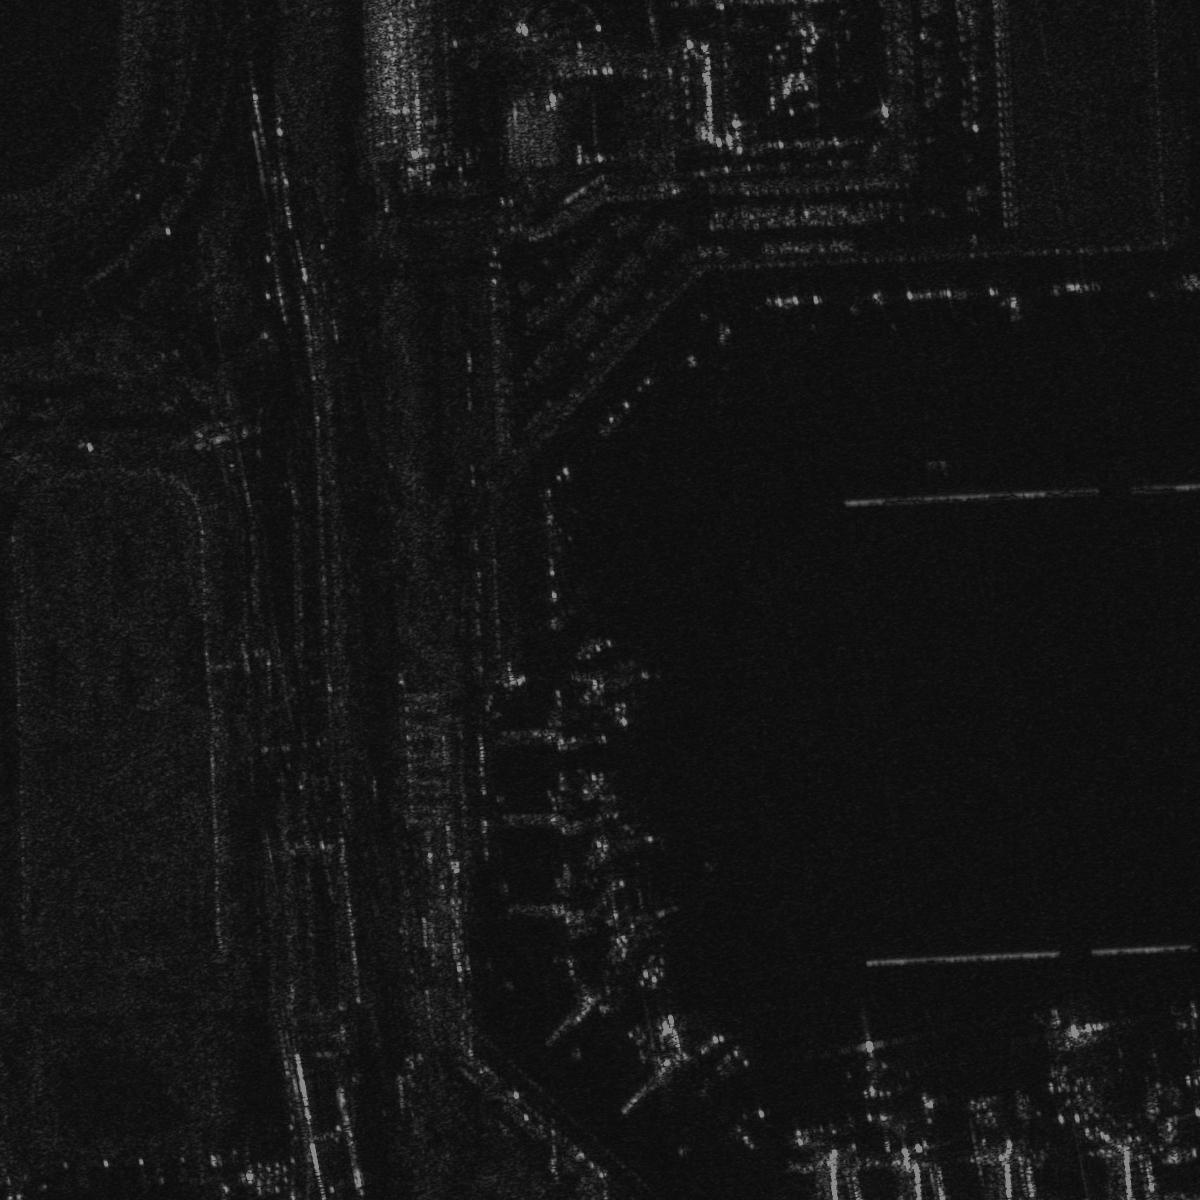A220: (851, 1025, 920, 1104)
A320/321: (1033, 1010, 1088, 1100), (1169, 996, 1199, 1086)
